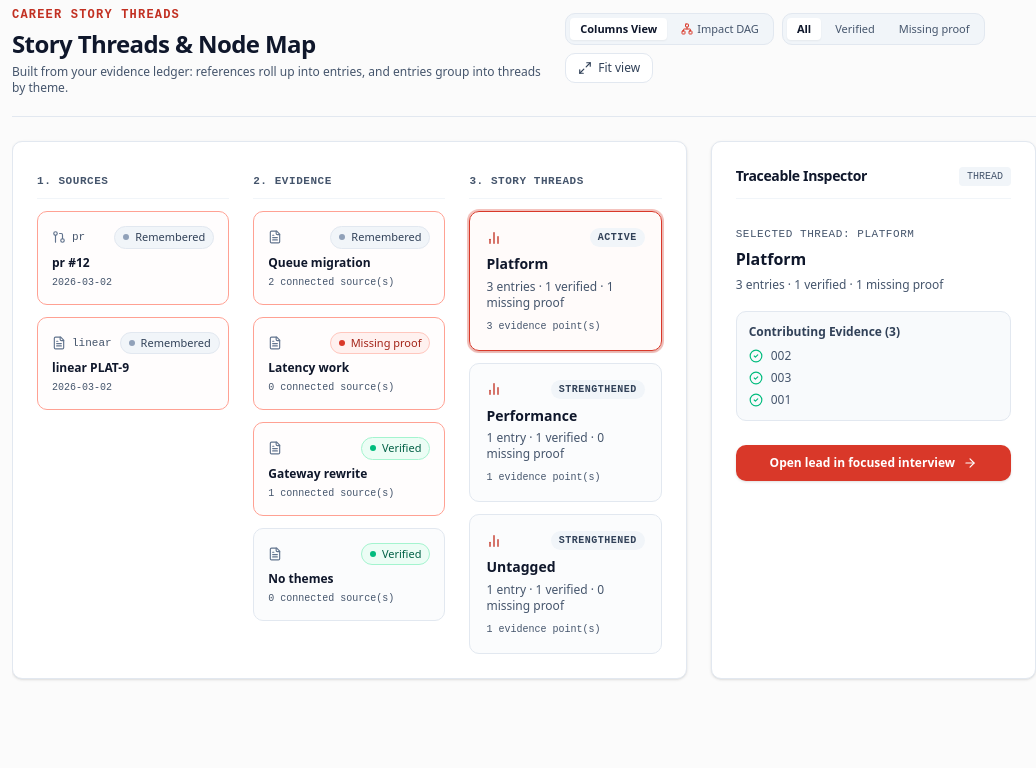
Scenario: Story Threads Node Map Tests › inspects source relationships when clicking a source node
The width and height of the screenshot is (1036, 768).
Click the button "pr Remembered pr #12 2026-03-02" at (133,258), box [37,211,229,304]
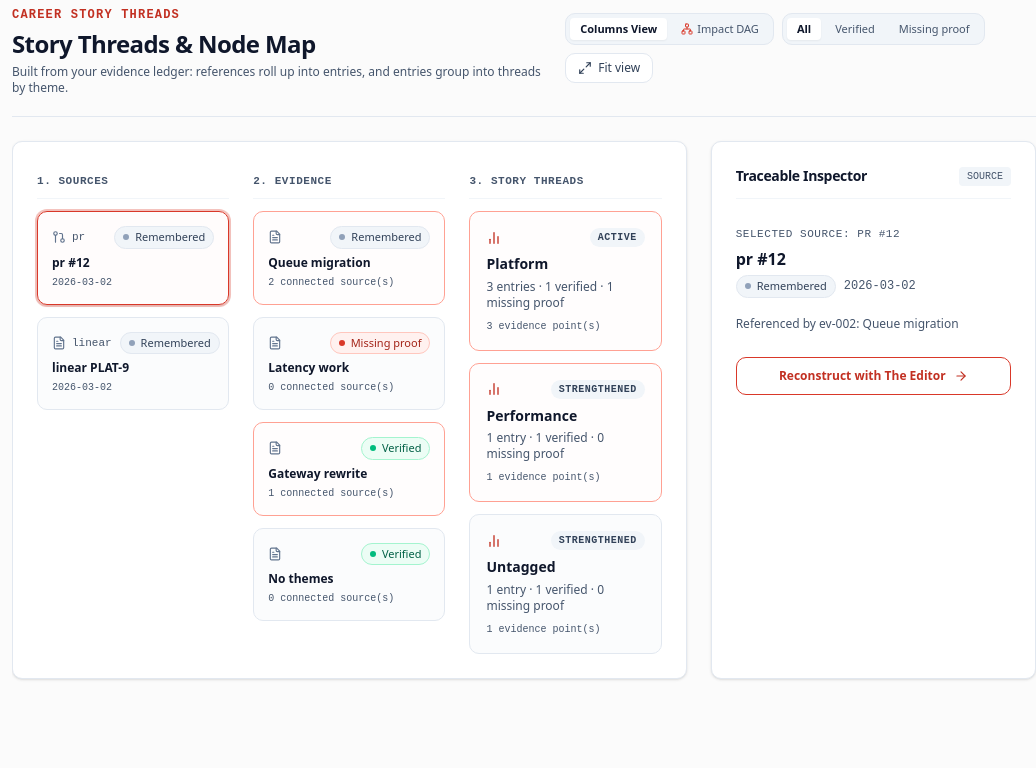
Expected: the text "Selected Source: pr #12" is shown, [736,228,900,240]
